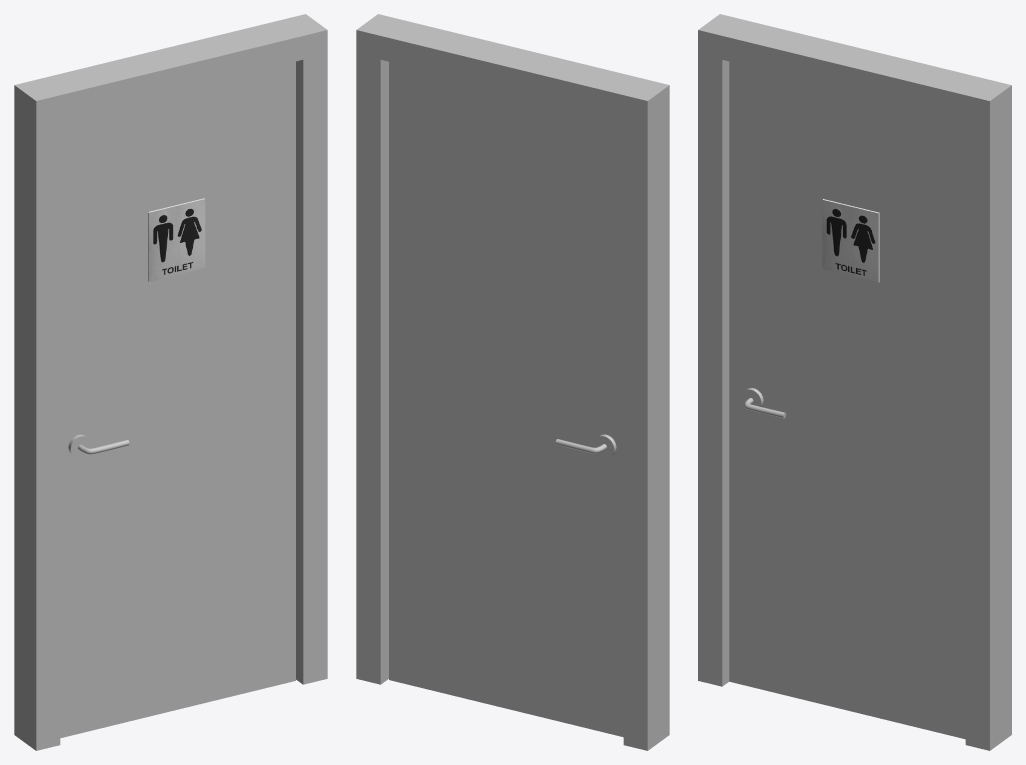
The model's file is Door 1.FBX.
The picture shows the model from 3 angles, left to right: view 1: azimuth 30°, elevation 25°; view 2: azimuth 150°, elevation 25°; view 3: azimuth 330°, elevation 25°; orthographic projection.
Visible parts, largest first — view 1: Door 1, door frame 2; view 2: Door 1, door frame 2; view 3: Door 1, door frame 2.
Part boxes in pixels (left/top/right/bottom): Door 1: left=60, top=61, right=295, bottom=738; door frame 2: left=14, top=14, right=327, bottom=750; Door 1: left=389, top=62, right=623, bottom=737; door frame 2: left=356, top=14, right=669, bottom=750; Door 1: left=729, top=61, right=965, bottom=739; door frame 2: left=698, top=14, right=1011, bottom=750.
Bounding box in the file's own units: 97.8 × 208 × 17.04.
